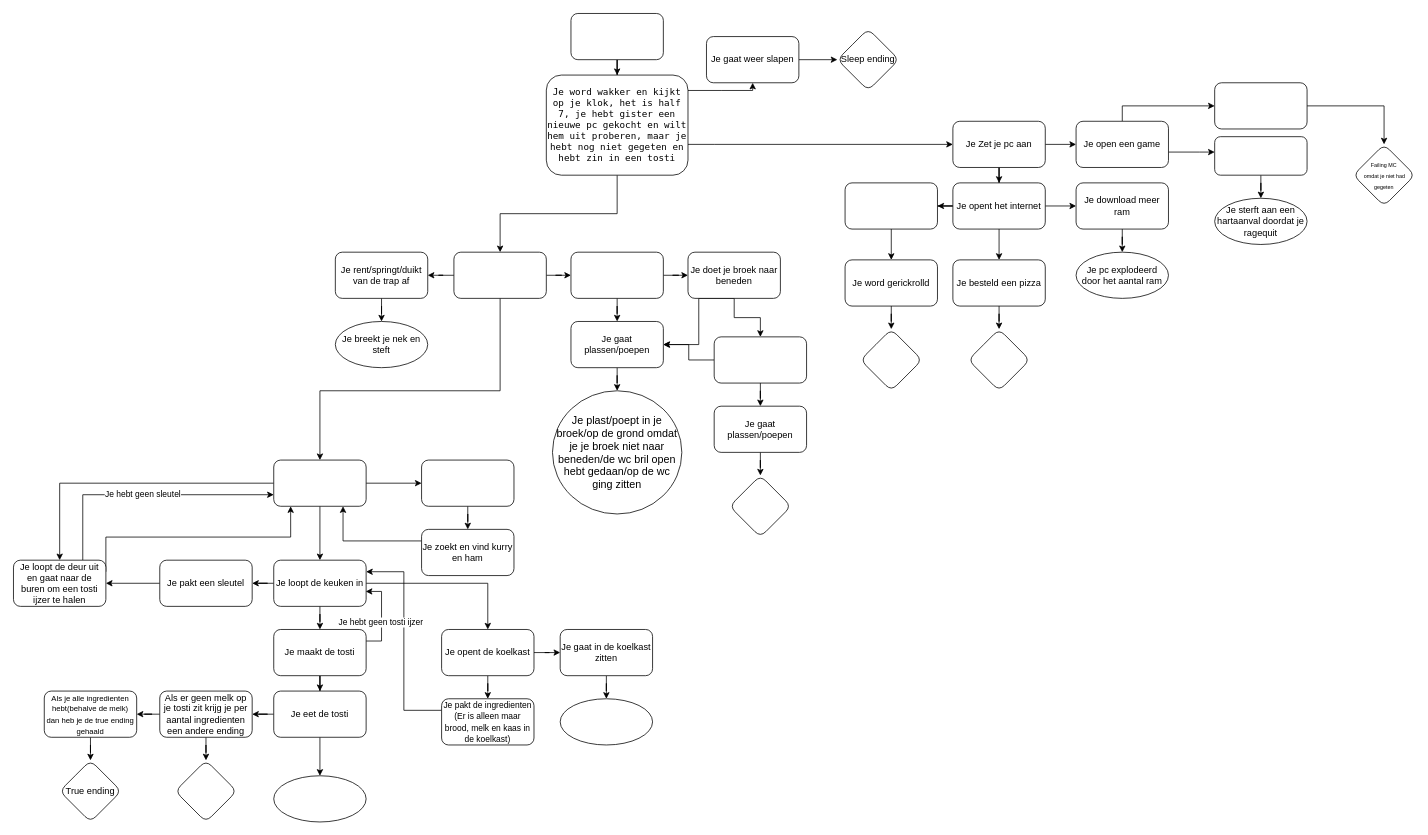
This 1428x835 diagram has some shape labels left out. The shapes that lost their labels are listed below. From the top down, each one's centre as x and y in pixels, then its label:
At point (616, 36): "Maak een tosti".
At point (1260, 105): "Je opent minecraft".
At point (1260, 155): "Je gaat fortnite spelen".
At point (890, 205): "Je opent youtube".
At point (499, 274): "Je loopt je kamer uit".
At point (616, 274): "Je gaat naar de wc".
At point (760, 359): "Je doet de wc bril omhoog".
At point (891, 359): "Rickroll ending".
At point (999, 359): "Pizza ending".
At point (319, 482): "Je staat beneden".
At point (467, 482): "Je loopt naar de kelder".
At point (760, 506): "Toilet ending".
At point (606, 721): "Je vriest dood".
At point (205, 791): "Tosti ending".
At point (319, 798): "Als je melk op je tosti hebt ga je dood".
